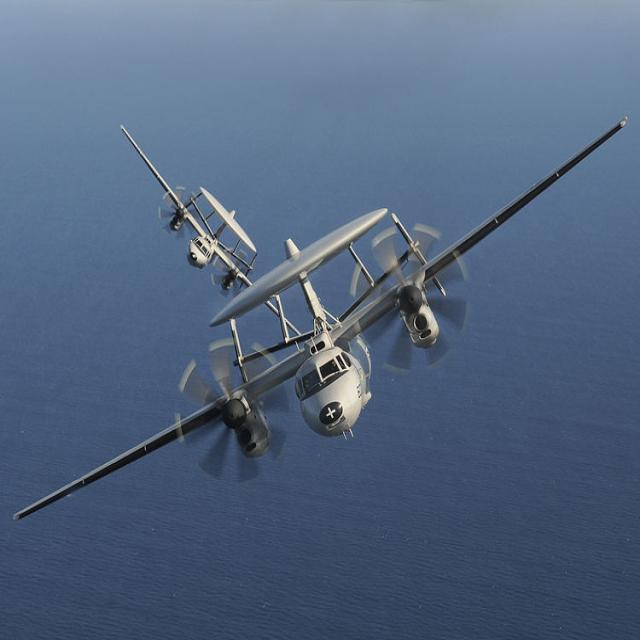MIL_Plane: (211, 64, 316, 471), (118, 119, 302, 331)
